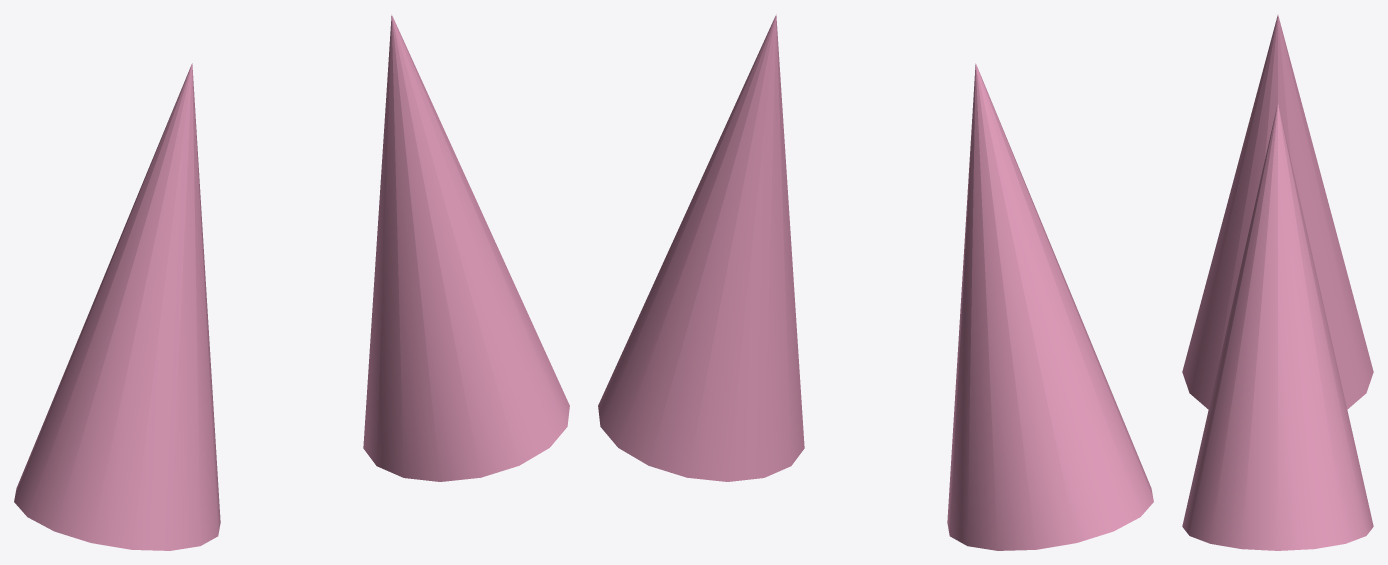
Rendered from rabbit_ears.glb.
3 renders of one model, left to right at view 1: azimuth 30°, elevation 25°; view 2: azimuth 150°, elevation 25°; view 3: azimuth 270°, elevation 25°, orthographic. The views are drawn at different scales.
Parts seen in each view (by area): view 1: LeftEar, RightEar; view 2: LeftEar, RightEar; view 3: RightEar, LeftEar.
Boxes of the visible parts, x1,y1,x2,y2 form: LeftEar: (14, 63, 220, 550); RightEar: (363, 14, 569, 481); LeftEar: (947, 63, 1153, 550); RightEar: (598, 14, 804, 481); RightEar: (1182, 103, 1373, 550); LeftEar: (1182, 15, 1373, 409).
Bounding box in the file's own units: 0.6946 × 0.5626 × 0.24.
